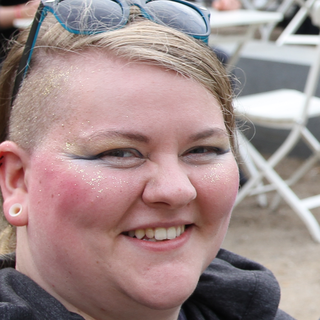eye: (93, 140, 145, 168), (180, 140, 228, 163)
